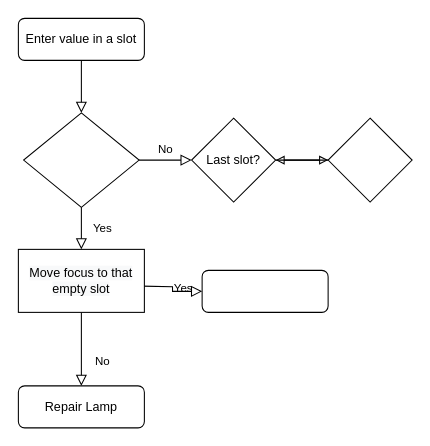
This 430x446 diagram has some shape labels left out. Each missing label, with the centre of its shape:
Check there is the next closet empty slot: (81,159)
Replace Bulb: (264,290)
